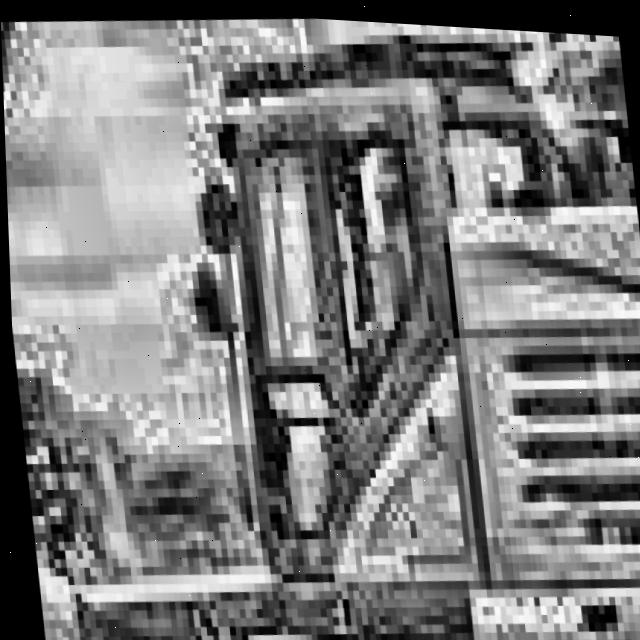excavator: (102, 17, 640, 640)
